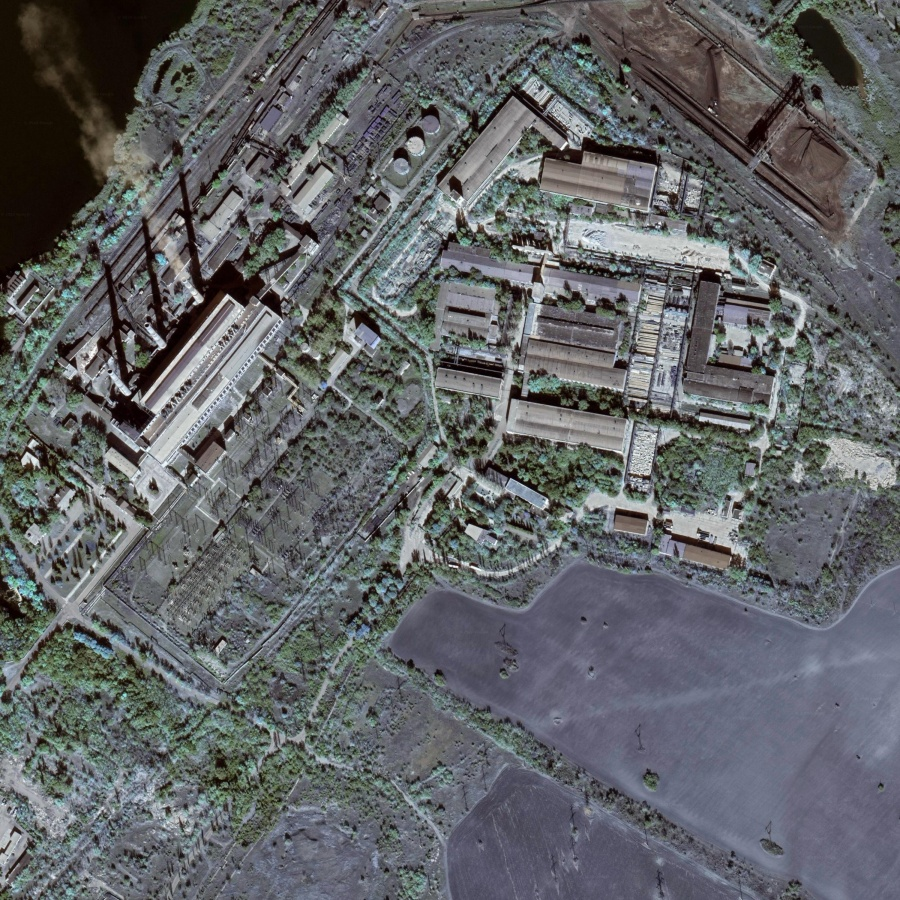PowerPlant: (67, 92, 432, 448)
